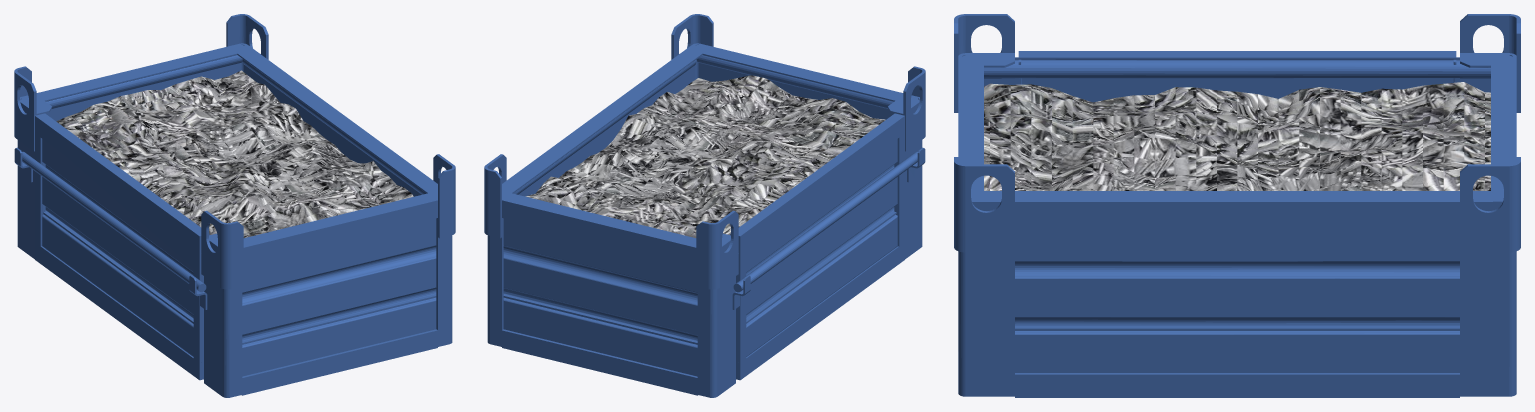
Rendered from full_becket.dae.
3 views of the same model, side by side, from view 1: azimuth 30°, elevation 25°; view 2: azimuth 150°, elevation 25°; view 3: azimuth 270°, elevation 25° (orthographic). The views are drawn at different scales.
Parts seen in each view (by area): view 1: Container_Filled; view 2: Container_Filled; view 3: Container_Filled.
Boxes of the visible parts, left/top/right/bottom form: Container_Filled: left=14, top=14, right=455, bottom=397; Container_Filled: left=484, top=14, right=925, bottom=397; Container_Filled: left=954, top=14, right=1520, bottom=397.
Size of the model in its own units: 0.7371 by 1.1 by 0.5.
